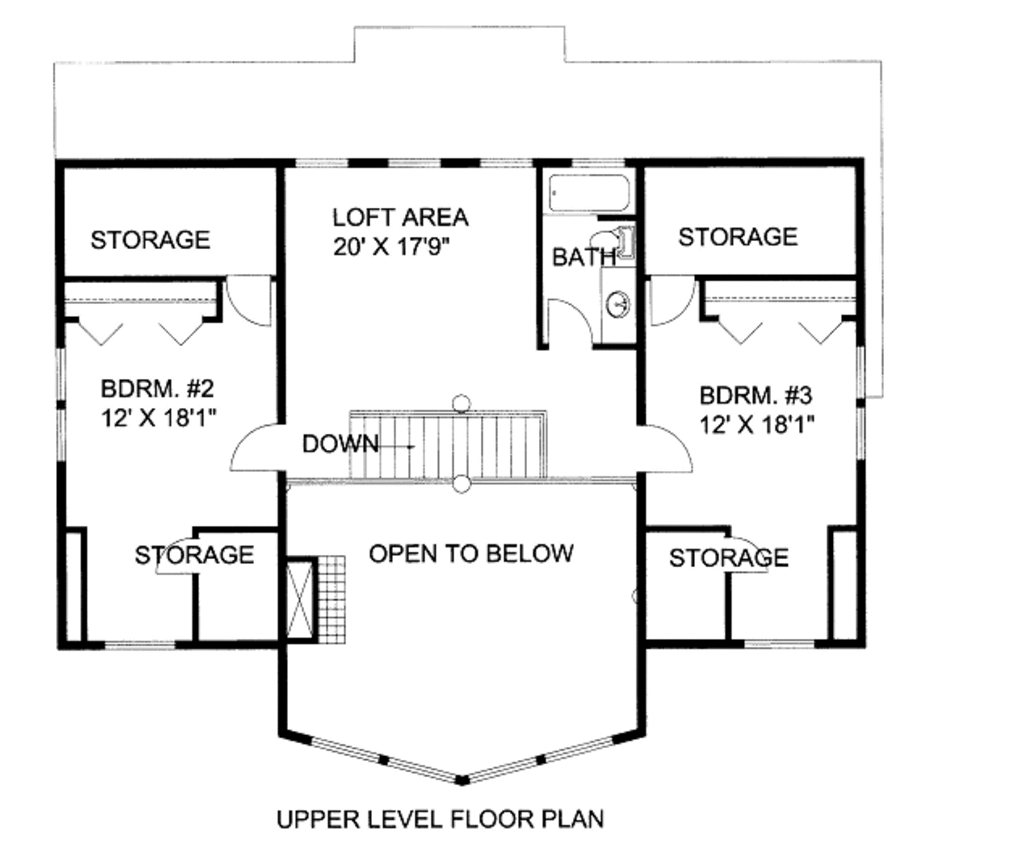door: (631, 416, 710, 482), (223, 418, 293, 480), (543, 293, 603, 358), (227, 269, 280, 327), (645, 268, 693, 328), (716, 537, 773, 577), (156, 537, 201, 576)
large_sink: (582, 220, 641, 270)
small_sink: (597, 273, 634, 348)
stairs: (339, 402, 555, 493)
tub: (545, 168, 641, 214)
window: (53, 344, 74, 461), (478, 147, 539, 178), (389, 147, 452, 174), (289, 148, 349, 173), (574, 144, 628, 166), (105, 637, 180, 651), (857, 347, 869, 407)
